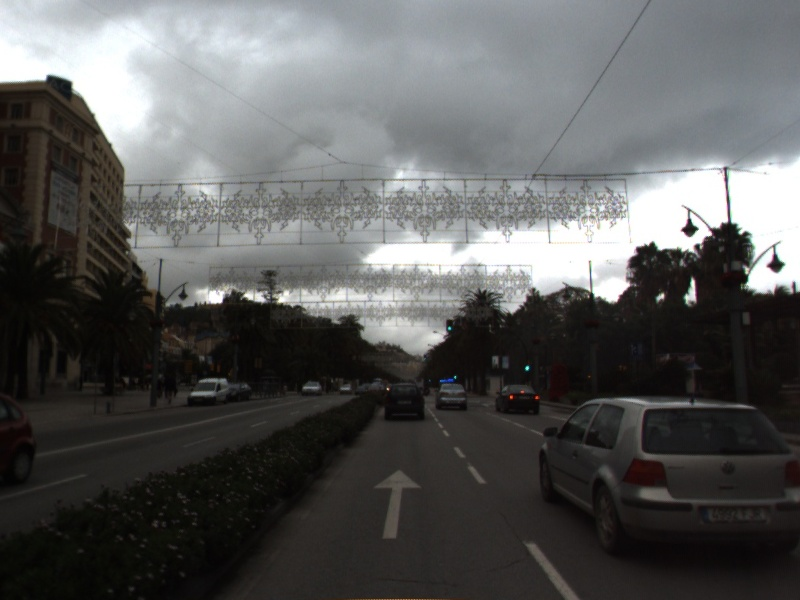STRAIGHT: (371, 467, 424, 541)
